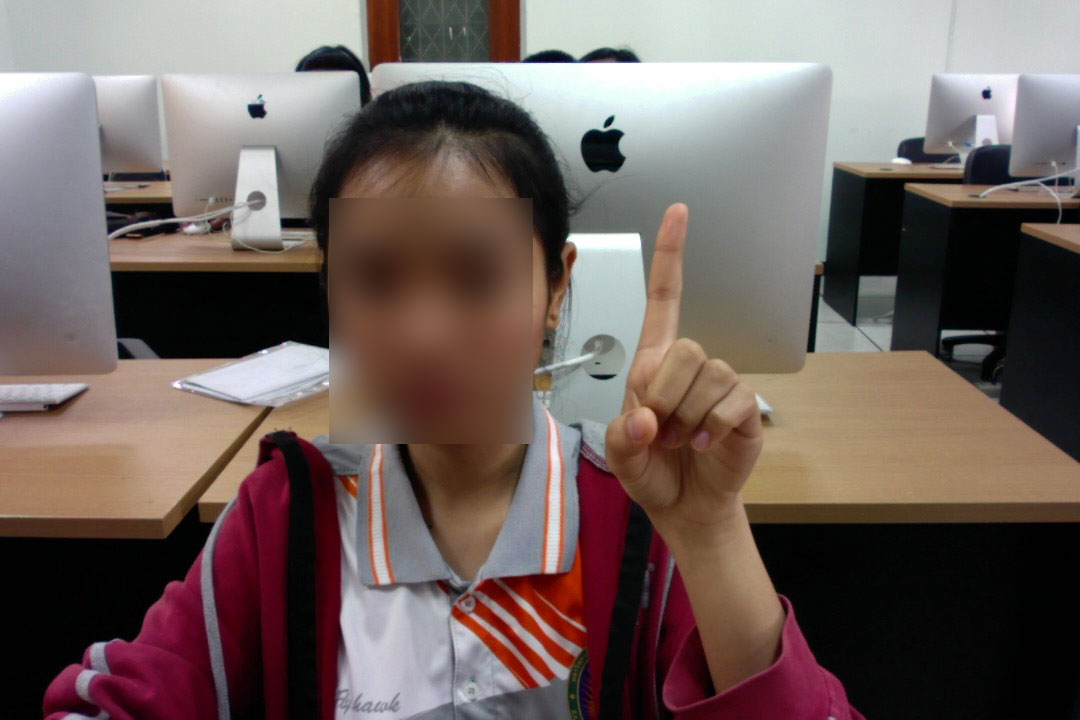dor: (597, 197, 778, 555)
